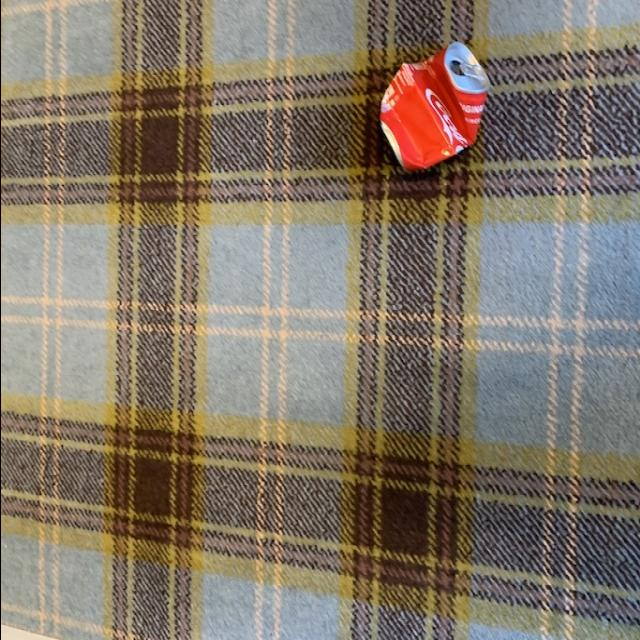Aluminum Can: (372, 44, 492, 182)
